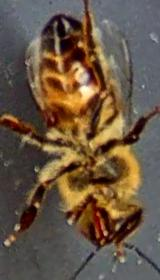varroa_mite: (42, 108, 59, 128)
